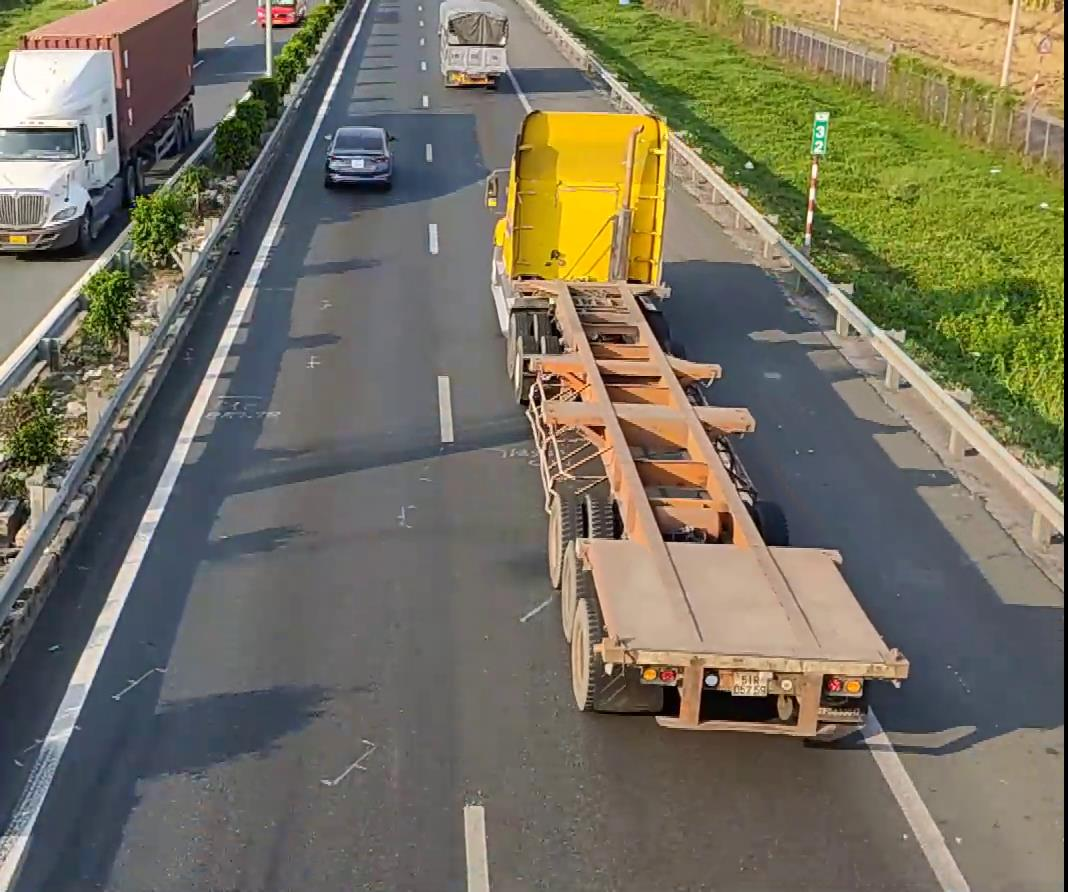car: (323, 126, 395, 189)
container: (485, 98, 913, 745), (0, 0, 199, 258)
truck: (436, 0, 509, 88)
